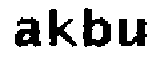a: (12, 15, 42, 50)
b: (81, 3, 115, 50)
k: (43, 5, 79, 50)
u: (117, 15, 152, 49)
